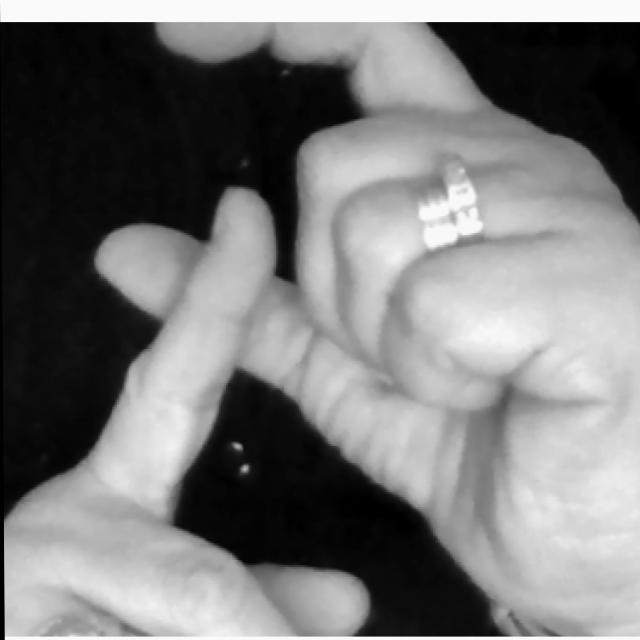C_: (0, 24, 640, 635)
